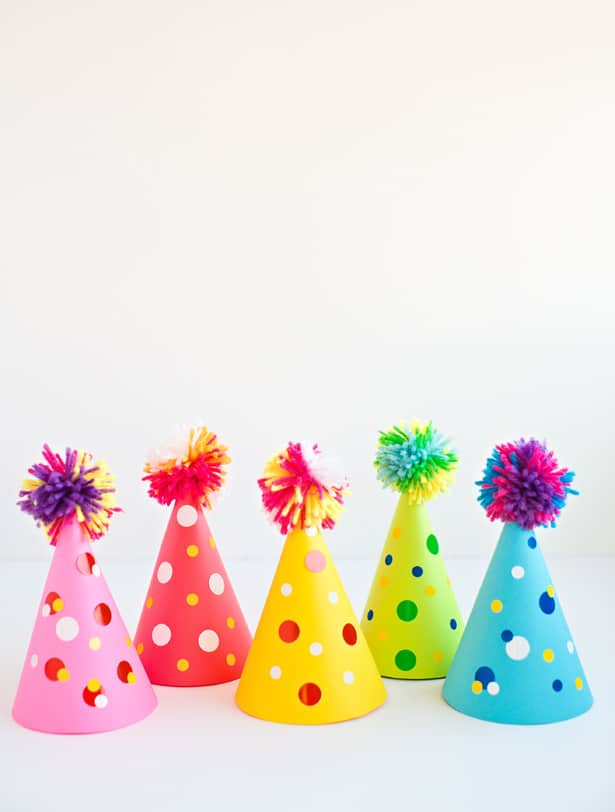cone: (12, 513, 159, 735), (234, 523, 388, 726), (441, 522, 593, 725), (134, 500, 253, 687), (360, 493, 464, 680)
